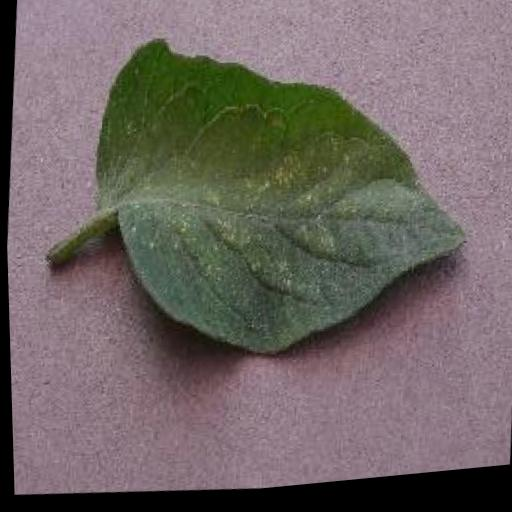Spider Mites: (78, 11, 485, 383)
